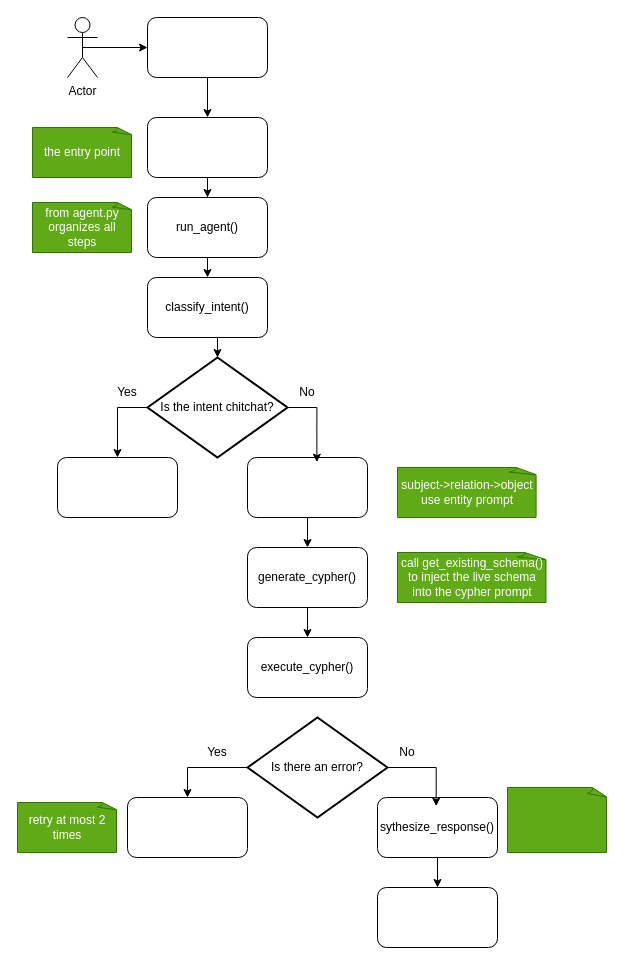
This 625x965 diagram has some shape labels left out. The shapes that lost their labels are listed below. From the top down, each one's box as (x1, y1, x2, y2) in pixels, then its label:
(146, 16, 268, 78): User asks question
(146, 116, 268, 178): main.py
(56, 456, 178, 518): handle_chitchat()
(246, 456, 368, 518): extract_entities()
(126, 796, 248, 858): correct_cypher()
(506, 786, 608, 852): use response prompt to return the answer in natural language
(376, 886, 498, 948): terminal output
